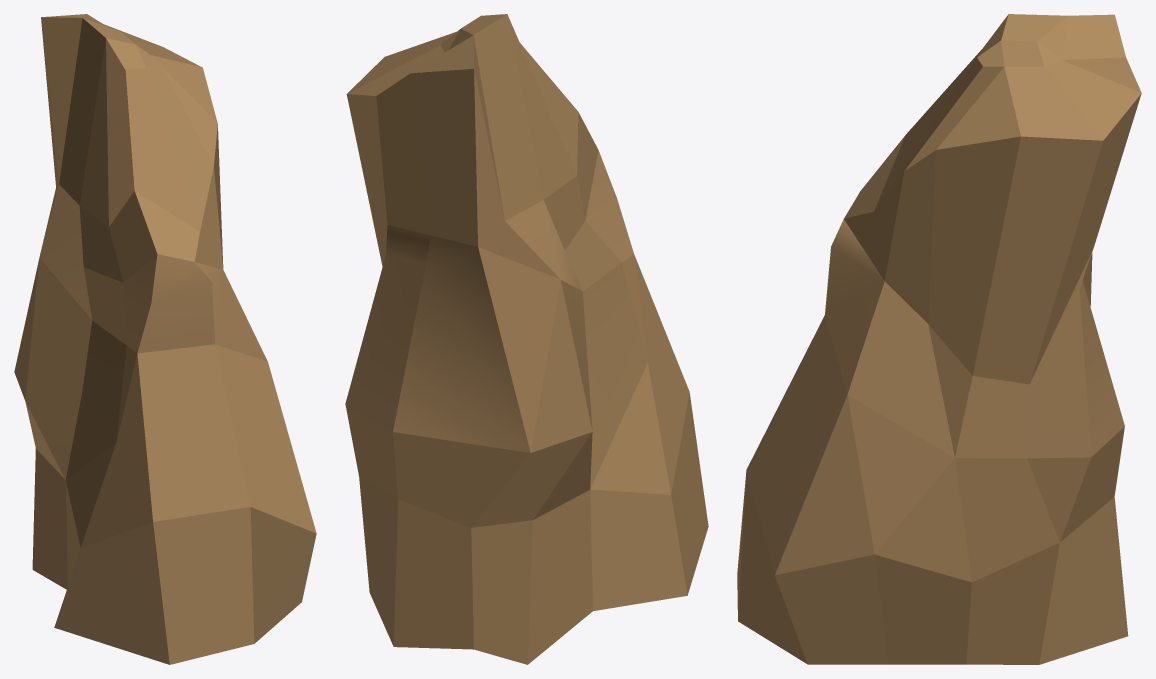
File: Mountain_high1.fbx
3 views of the same model, side by side, from view 1: azimuth 30°, elevation 25°; view 2: azimuth 150°, elevation 25°; view 3: azimuth 270°, elevation 25° (orthographic). The views are drawn at different scales.
Visible parts, largest first — view 1: polySurface7; view 2: polySurface7; view 3: polySurface7.
Boxes of the visible parts, left/top/right/bottom form: polySurface7: left=14, top=14, right=316, bottom=664; polySurface7: left=345, top=14, right=708, bottom=664; polySurface7: left=737, top=14, right=1141, bottom=664.
Bounding box in the file's own units: 4.24 × 9.63 × 5.79.
